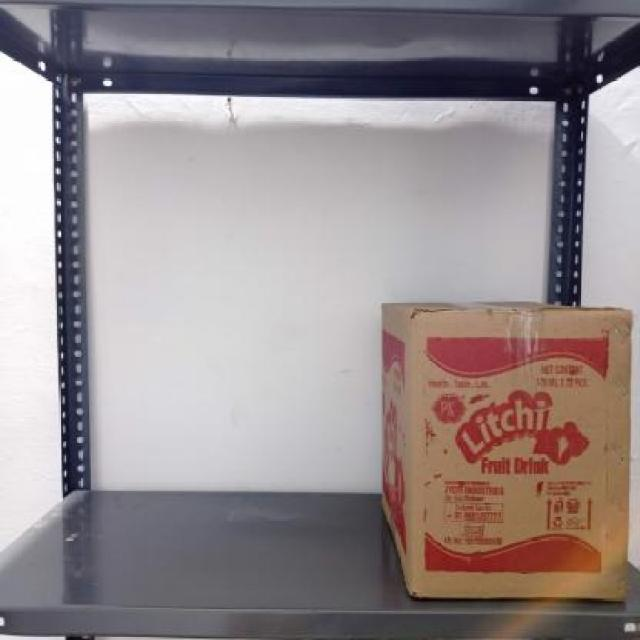box: (409, 309, 629, 606)
